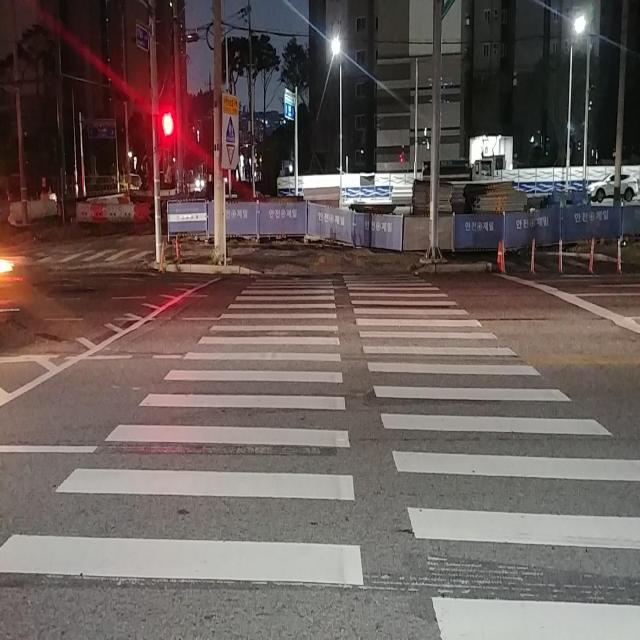빨간불: (162, 100, 178, 162)
횡단보도: (0, 274, 640, 640)
